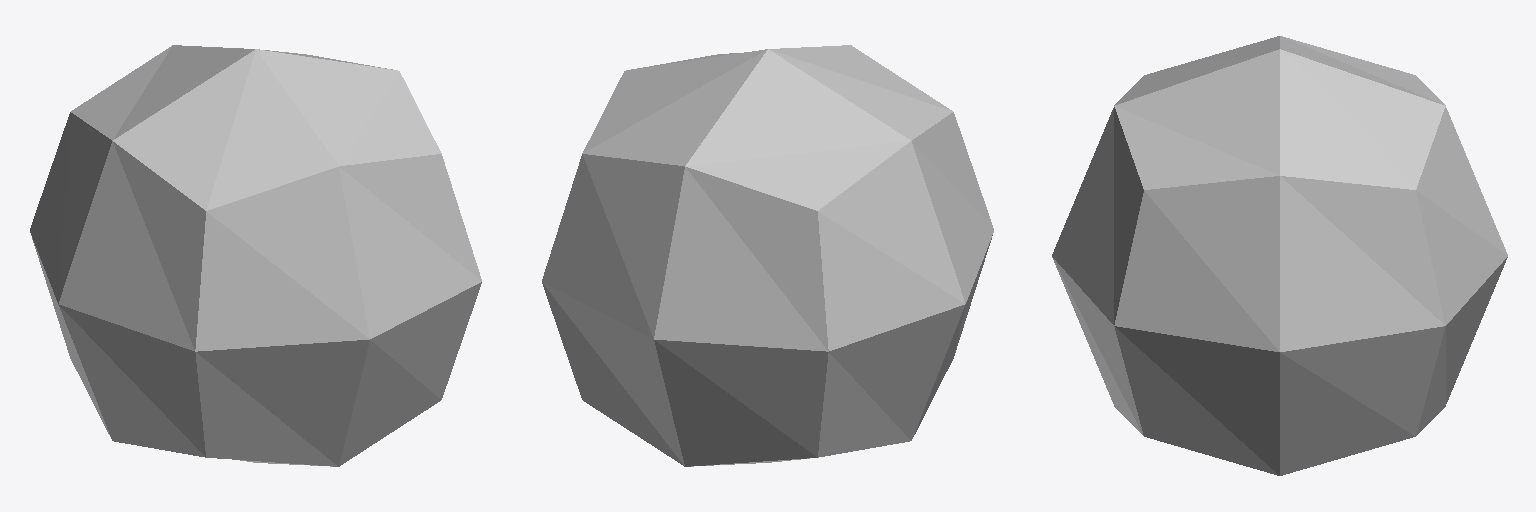
The model's file is pigeye.obj.
3 views of the same model, side by side, from view 1: azimuth 30°, elevation 25°; view 2: azimuth 150°, elevation 25°; view 3: azimuth 270°, elevation 25° (orthographic).
Parts seen in each view (by area): view 1: Cube; view 2: Cube; view 3: Cube.
Boxes of the visible parts, box(x1,y1,x2,y2) form: Cube: box(30, 45, 481, 466); Cube: box(542, 45, 993, 466); Cube: box(1052, 36, 1507, 475).
Bounding box in the file's own units: 0.3772 × 0.3772 × 0.3772.